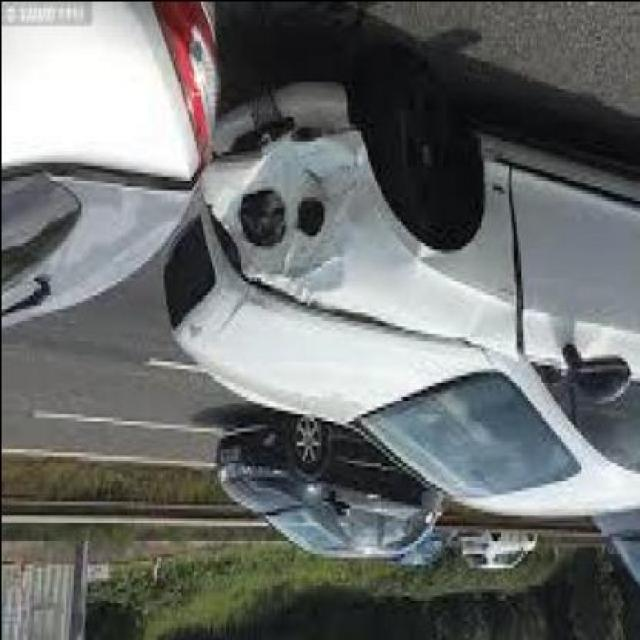damage: (199, 108, 530, 364)
